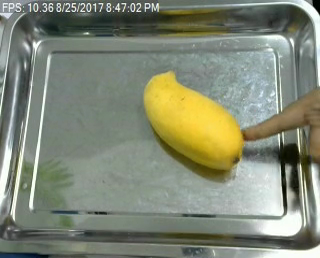Mango: (140, 69, 246, 170)
